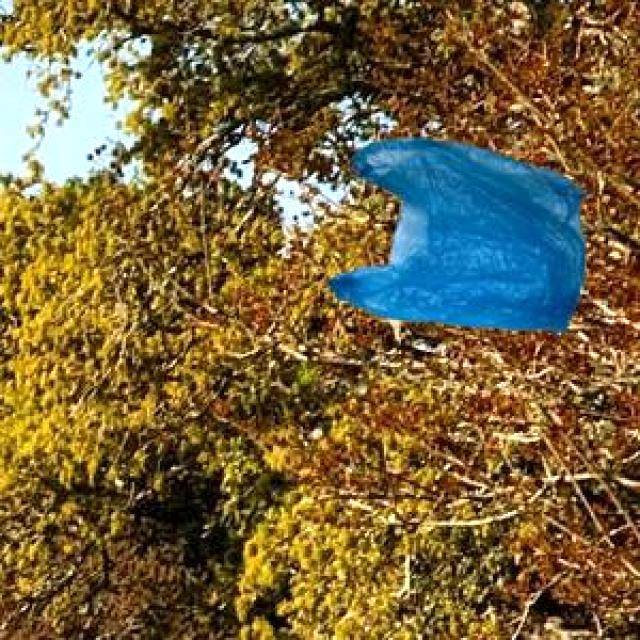Plastic_Bag: (326, 136, 584, 330)
